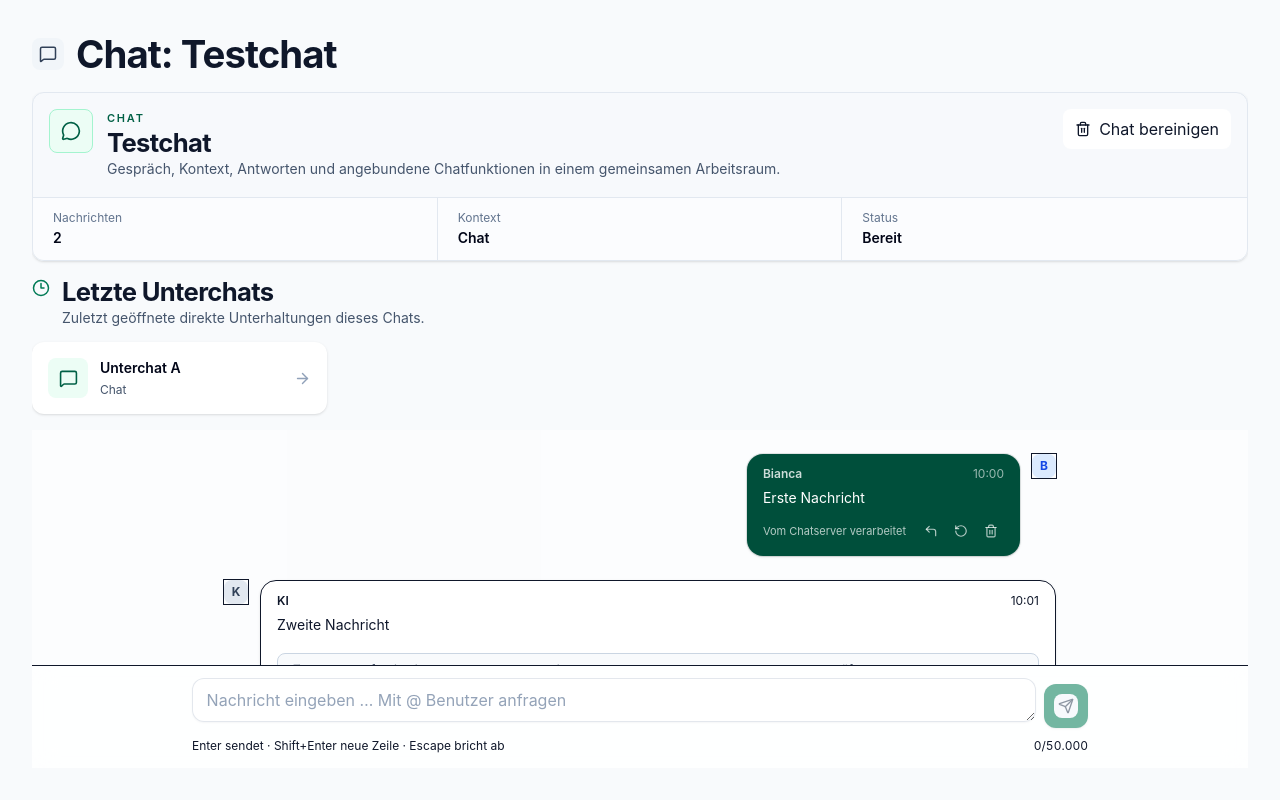
it: GenericChatView history mutations › deletes one persisted message
The width and height of the screenshot is (1280, 800).
Expected: the text "Erste Nachricht" is shown, [763,489,865,506]
Click the button named "Nachricht löschen": (991, 531) [978,518,1004,544]
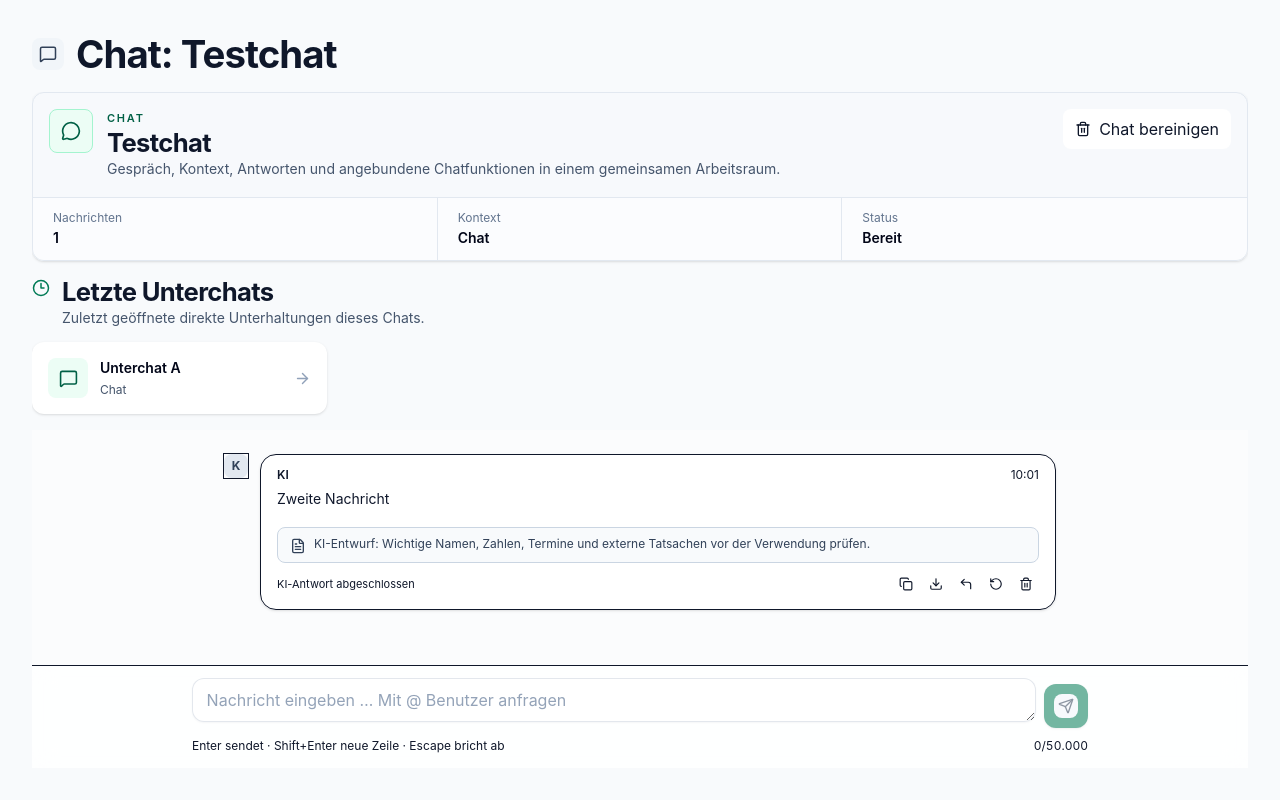
Expected: the text "Zweite Nachricht" is shown, [277,490,390,507]
Expected: the text "Erste Nachricht" is gone
